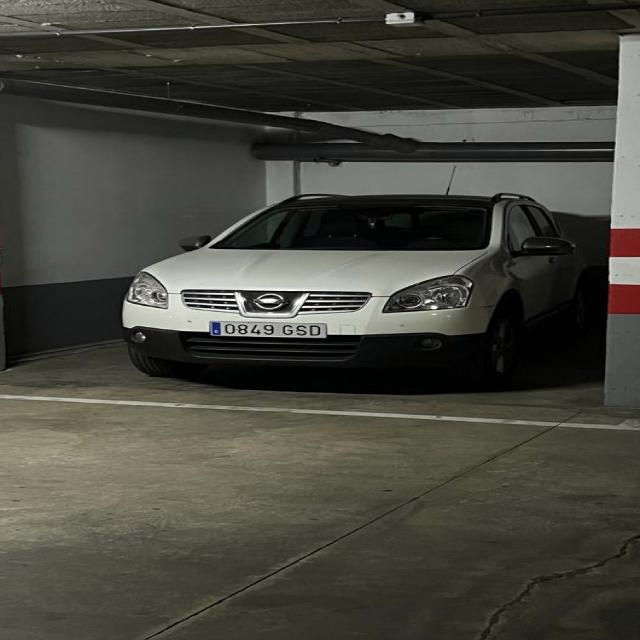License-Plate: (208, 319, 328, 339)
